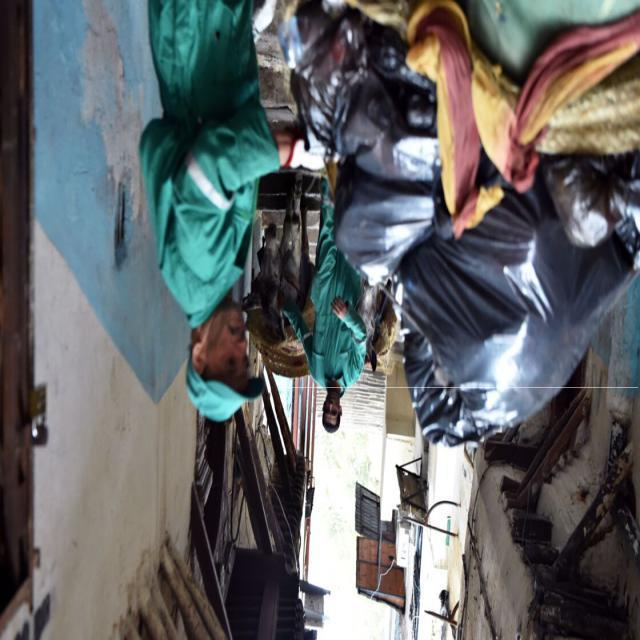Trashbag: (394, 158, 640, 439), (272, 3, 440, 281)
